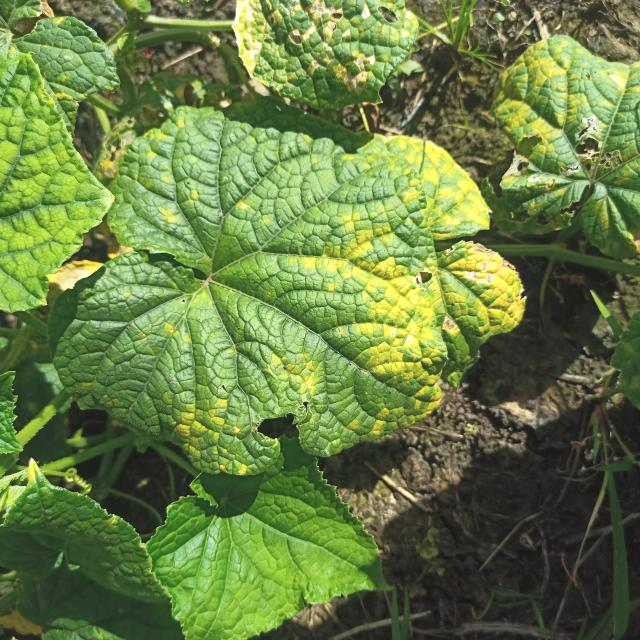disease_cucumber: (303, 124, 524, 456), (157, 348, 331, 477)
